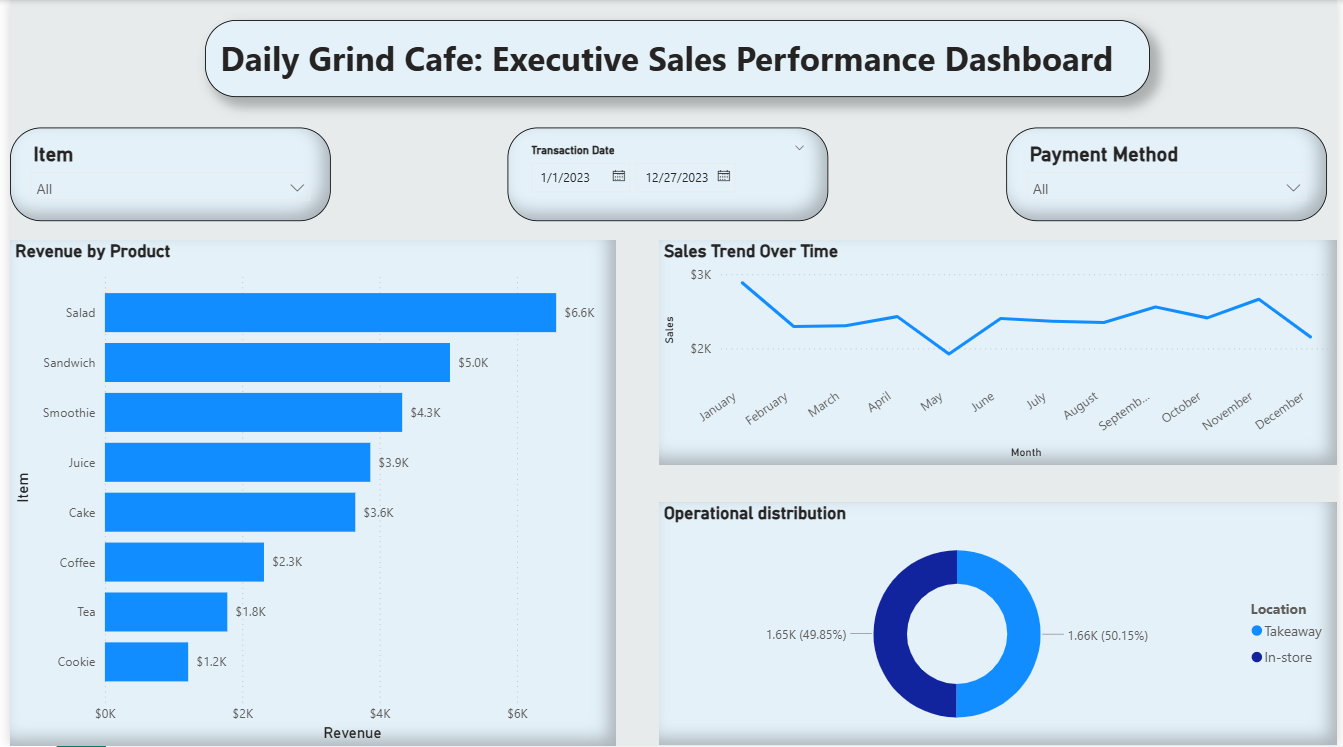

Layout of this report page (visuals, bound fields, positions):
{"tool":"powerbi","page":{"name":"Page 1","canvas":[1280,720],"ordinal":0},"visuals":[{"type":"clusteredBarChart","title":"Revenue by Product","fields":{"Y":["Sum(cafe_sales.Total Spent)"],"Category":["cafe_sales.Item"]},"box":[0,231.1,584.5,489.1],"z":0},{"type":"lineChart","title":"Sales Trend Over Time","fields":{"Y":["Sum(cafe_sales.Total Spent)"],"Category":["cafe_sales.Transaction Date.Variation.Date Hierarchy.Year","cafe_sales.Transaction Date.Variation.Date Hierarchy.Quarter","cafe_sales.Transaction Date.Variation.Date Hierarchy.Month","cafe_sales.Transaction Date.Variation.Date Hierarchy.Day"]},"box":[626.1,231.1,654.2,216.4],"z":1000},{"type":"donutChart","title":"Operational distribution","fields":{"Category":["cafe_sales.Location"],"Y":["CountNonNull(cafe_sales.Transaction ID)"]},"box":[626.1,485.5,654.2,234.8],"z":2000},{"type":"slicer","fields":{"Values":["cafe_sales.Transaction Date"]},"box":[480.6,123.5,309.4,90.5],"z":3000},{"type":"slicer","fields":{"Values":["cafe_sales.Item"]},"box":[0,123.5,309.4,90.5],"z":4000},{"type":"slicer","fields":{"Values":["cafe_sales.Payment Method"]},"box":[961.1,123.5,309.4,90.5],"z":5000},{"type":"textbox","box":[188.3,19.6,912.2,74.6],"z":6000}]}

Visuals, with their boxes in screenshot pixels (x1, y1, x2, y2), scaled from the page's 1280x720 canvas onto the 1343x747 screenshot:
"Revenue by Product" clusteredBarChart: rect(0, 240, 613, 746)
"Sales Trend Over Time" lineChart: rect(657, 240, 1342, 464)
"Operational distribution" donutChart: rect(657, 504, 1342, 746)
slicer - cafe_sales.Transaction Date: rect(504, 128, 829, 222)
slicer - cafe_sales.Item: rect(0, 128, 325, 222)
slicer - cafe_sales.Payment Method: rect(1008, 128, 1333, 222)
textbox: rect(198, 20, 1155, 98)
